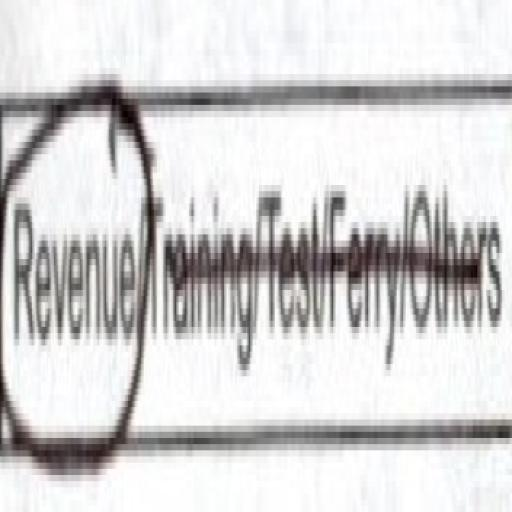check: (0, 23, 144, 474)
